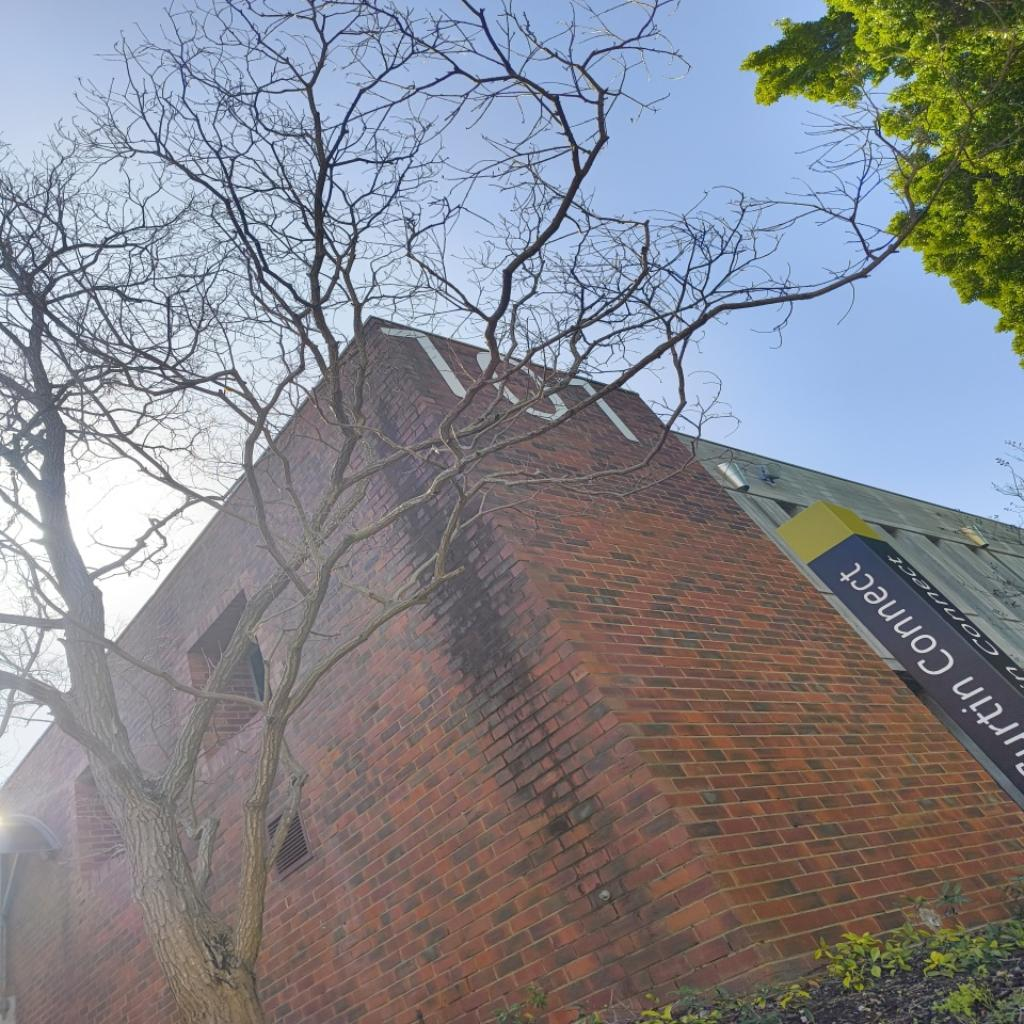BuildingCodes: (372, 322, 648, 448)
